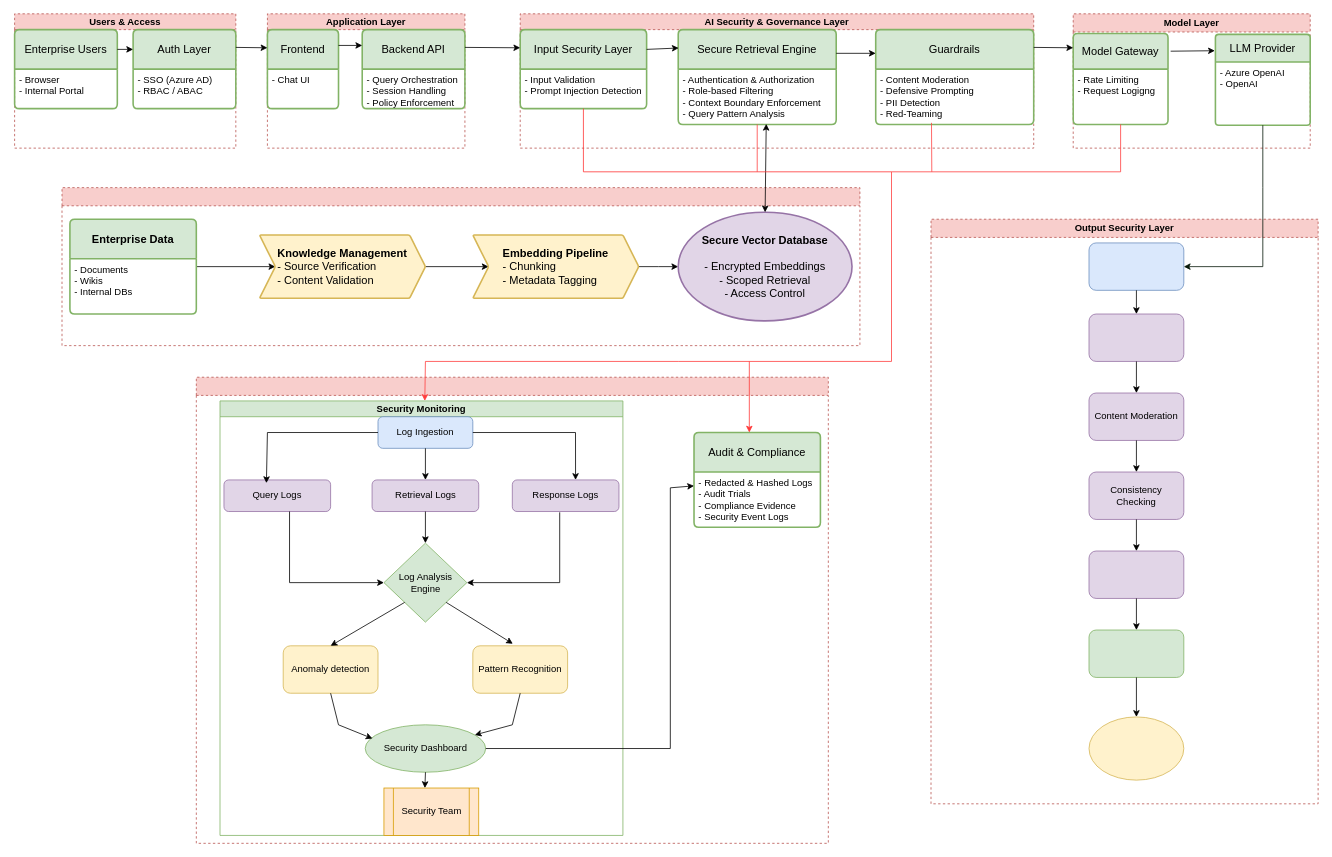
The diagram is 1332 pixels wide and 857 high, and some of its shapes have lost their labels. The centre of each missing label's shape, as x and y in pixels:
"Alignment with Retrieved Context" goes at pixel 1136 574.
"Knowledge & Data Layer" goes at pixel 460 266.
"Observability & Audit" goes at pixel 512 609.
"PII Detection" goes at pixel 1136 337.
"Raw LLM Output" goes at pixel 1136 266.
"Safe Response" goes at pixel 1136 653.
"User" goes at pixel 1136 748.
